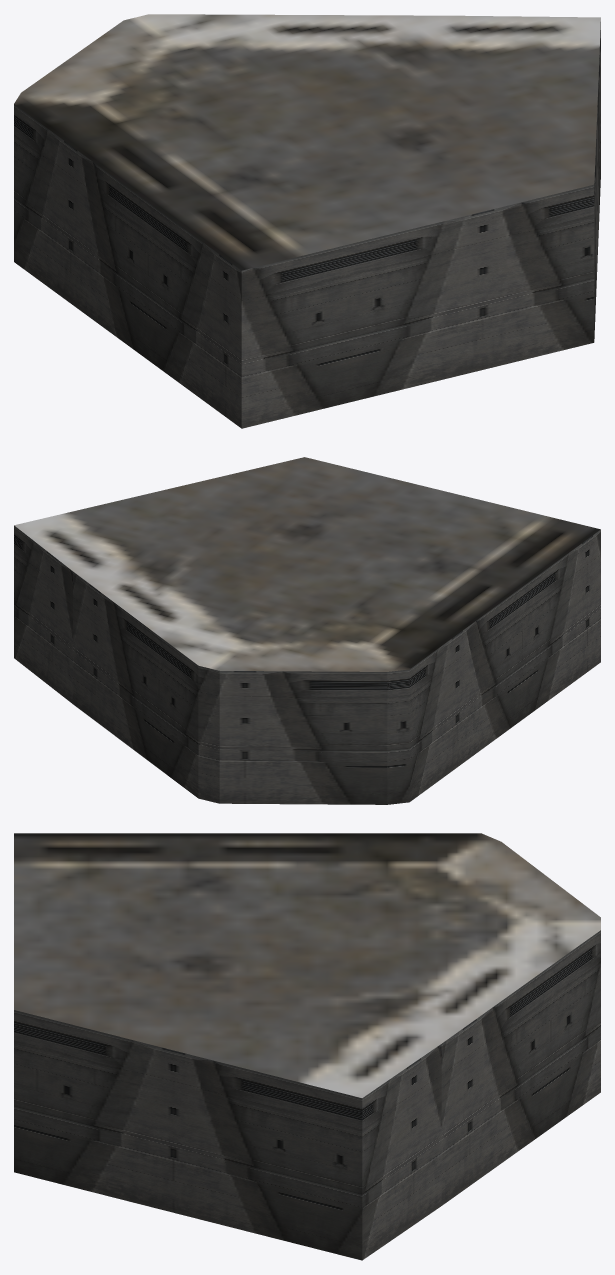
File: fortress_light_12.glb
The picture shows the model from 3 angles, top to bottom: view 1: azimuth 30°, elevation 25°; view 2: azimuth 150°, elevation 25°; view 3: azimuth 270°, elevation 25°; orthographic projection. The views are drawn at different scales.
Parts seen in each view (by area): view 1: buildings/saxarba/fortress_light/fortress_light_12; view 2: buildings/saxarba/fortress_light/fortress_light_12; view 3: buildings/saxarba/fortress_light/fortress_light_12.
Part boxes in pixels (<box>): buildings/saxarba/fortress_light/fortress_light_12: <box>14,14,600,428</box>; buildings/saxarba/fortress_light/fortress_light_12: <box>14,457,600,804</box>; buildings/saxarba/fortress_light/fortress_light_12: <box>14,833,600,1260</box>.
Bounding box in the file's own units: 63 × 18 × 59.
